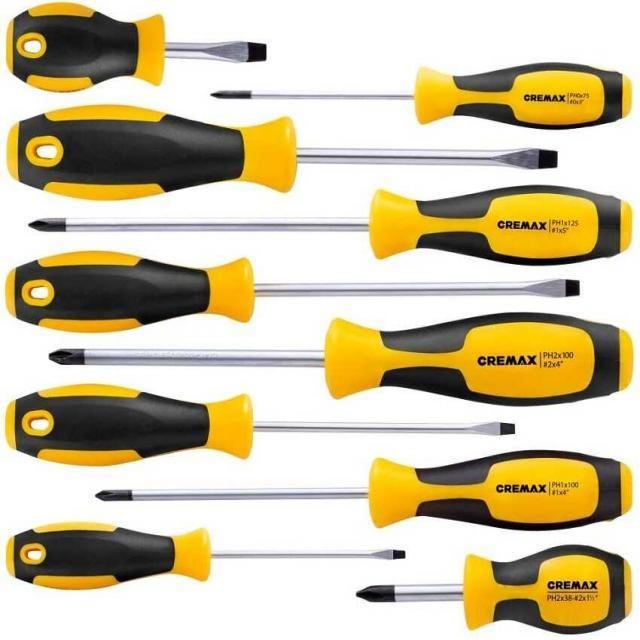screwdriver: (19, 308, 636, 406), (10, 181, 640, 271), (1, 106, 574, 200), (92, 440, 638, 536), (0, 250, 592, 332), (1, 384, 525, 470), (206, 56, 636, 132), (6, 518, 410, 592), (343, 542, 640, 634), (1, 0, 269, 98)
